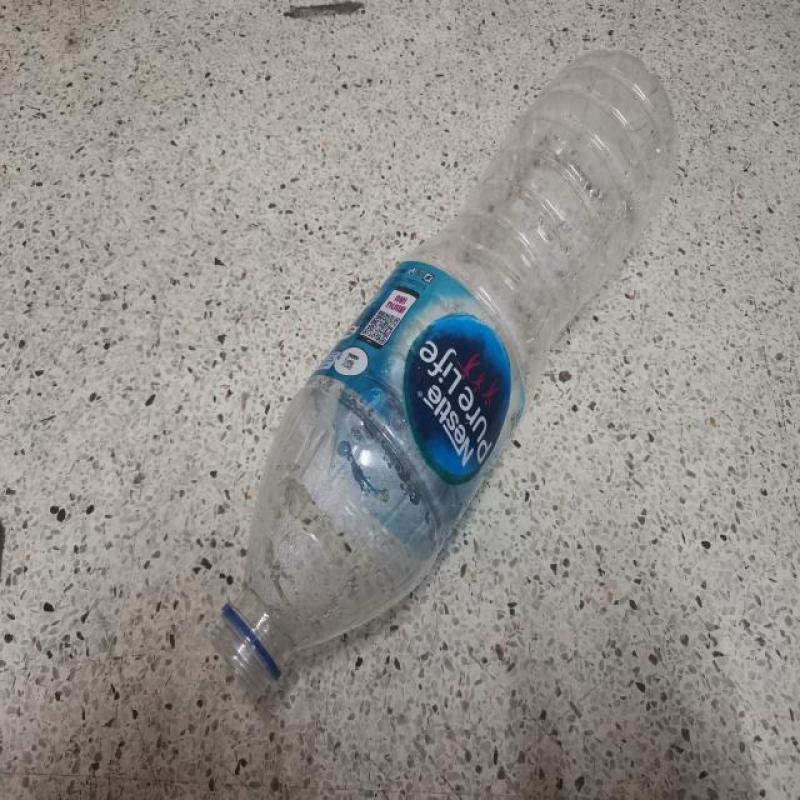botella: (209, 50, 675, 698)
